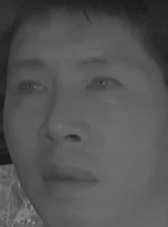eye: (80, 72, 124, 97), (12, 75, 49, 99)
mouth: (39, 159, 103, 198)
